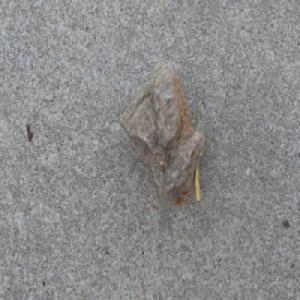Rock: (120, 60, 205, 207)
